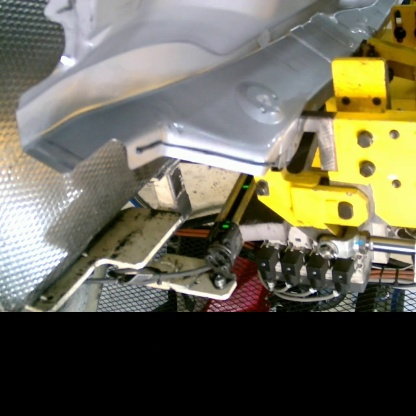line: (134, 136, 274, 168)
